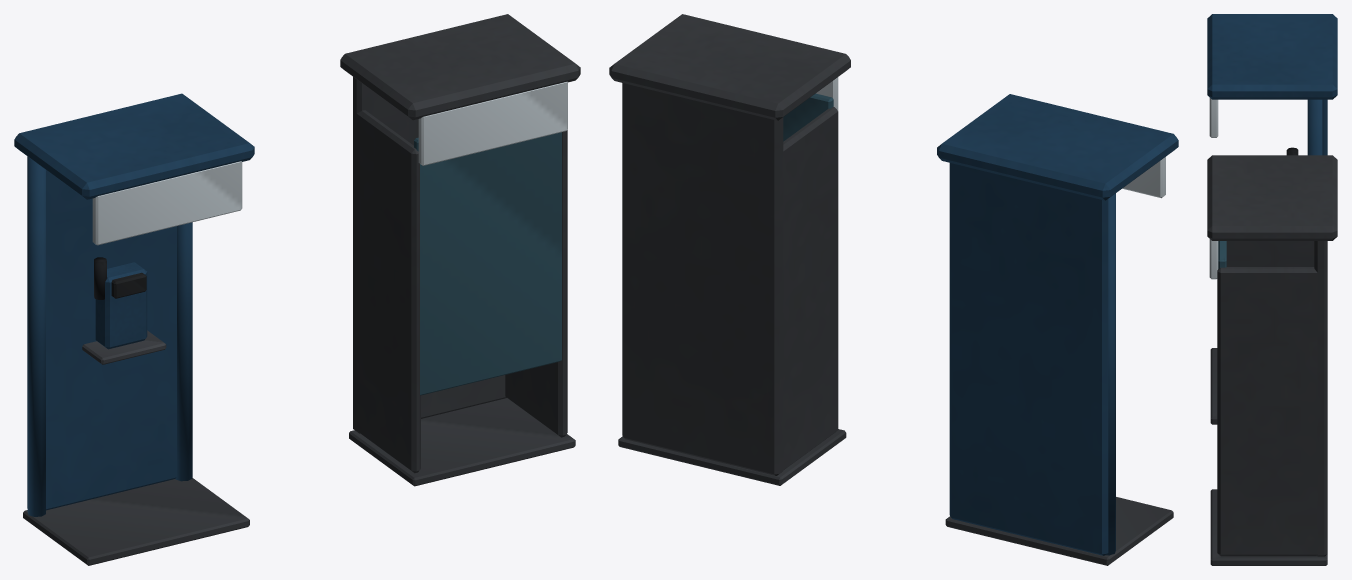
The model's file is phone_booth.glb.
The picture shows the model from 3 angles, left to right: view 1: azimuth 30°, elevation 25°; view 2: azimuth 150°, elevation 25°; view 3: azimuth 270°, elevation 25°; orthographic projection. The views are drawn at different scales.
Parts seen in each view (by area): view 1: phone_booth_v2, phone_booth_v1; view 2: phone_booth_v2, phone_booth_v1; view 3: phone_booth_v2, phone_booth_v1.
Part boxes in pixels (x1=…): phone_booth_v2: x1=340, y1=14, x2=580, y2=486; phone_booth_v1: x1=14, y1=93, x2=254, y2=565; phone_booth_v2: x1=609, y1=14, x2=850, y2=485; phone_booth_v1: x1=937, y1=94, x2=1178, y2=565; phone_booth_v2: x1=1207, y1=155, x2=1337, y2=565; phone_booth_v1: x1=1207, y1=14, x2=1337, y2=424.
Size of the model in its own units: 3.06 by 2.25 by 0.78.
Materials: 2 (2 with a texture image).
